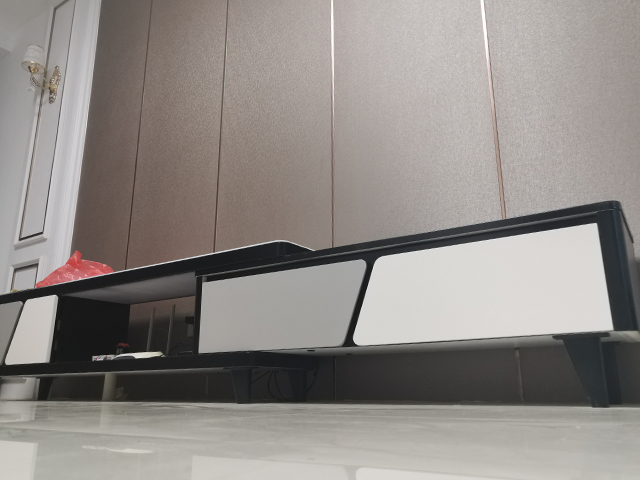cabinet: (1, 196, 639, 410)
wire: (252, 366, 320, 405)
